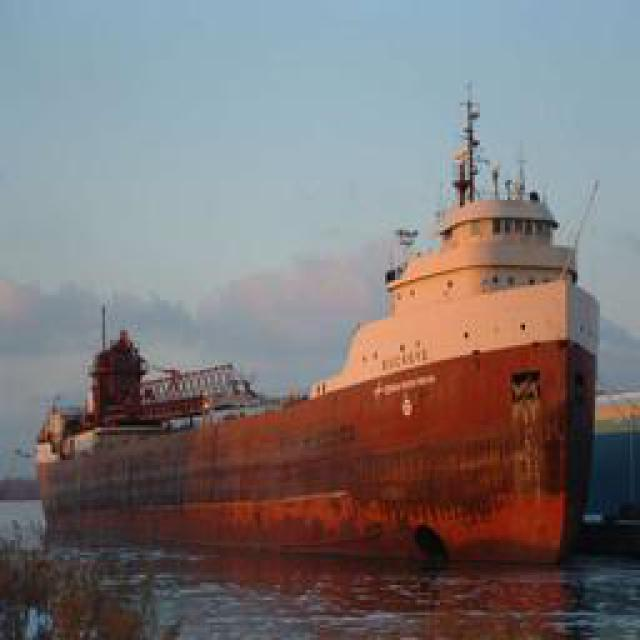Ship: (23, 109, 603, 567)
